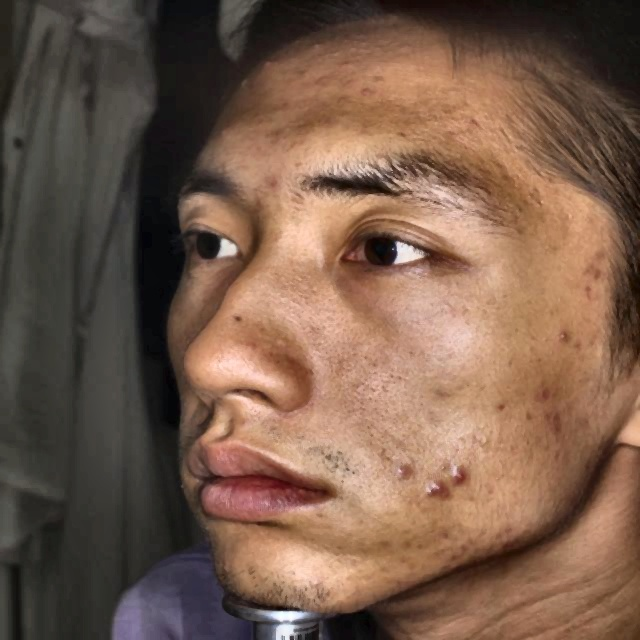pustule: (338, 51, 370, 84), (585, 244, 612, 282), (446, 462, 478, 491), (424, 479, 451, 504), (552, 328, 577, 348), (549, 409, 569, 434), (398, 458, 421, 479), (262, 174, 283, 193), (316, 70, 334, 88)
